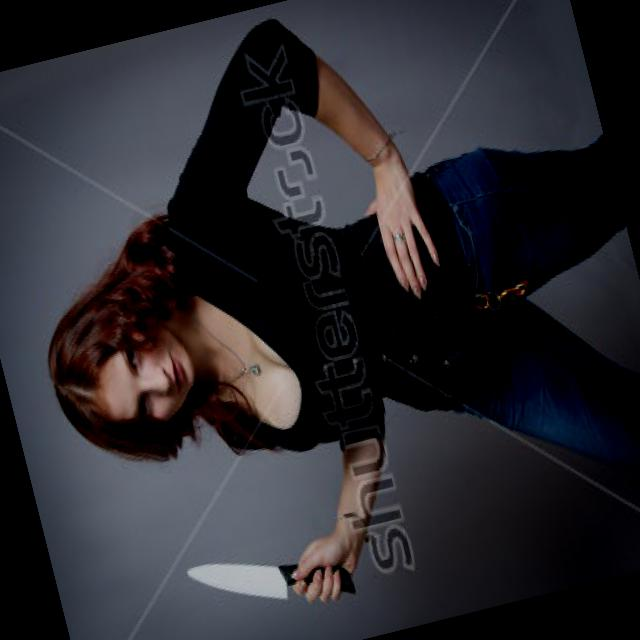knife: (172, 516, 348, 639)
